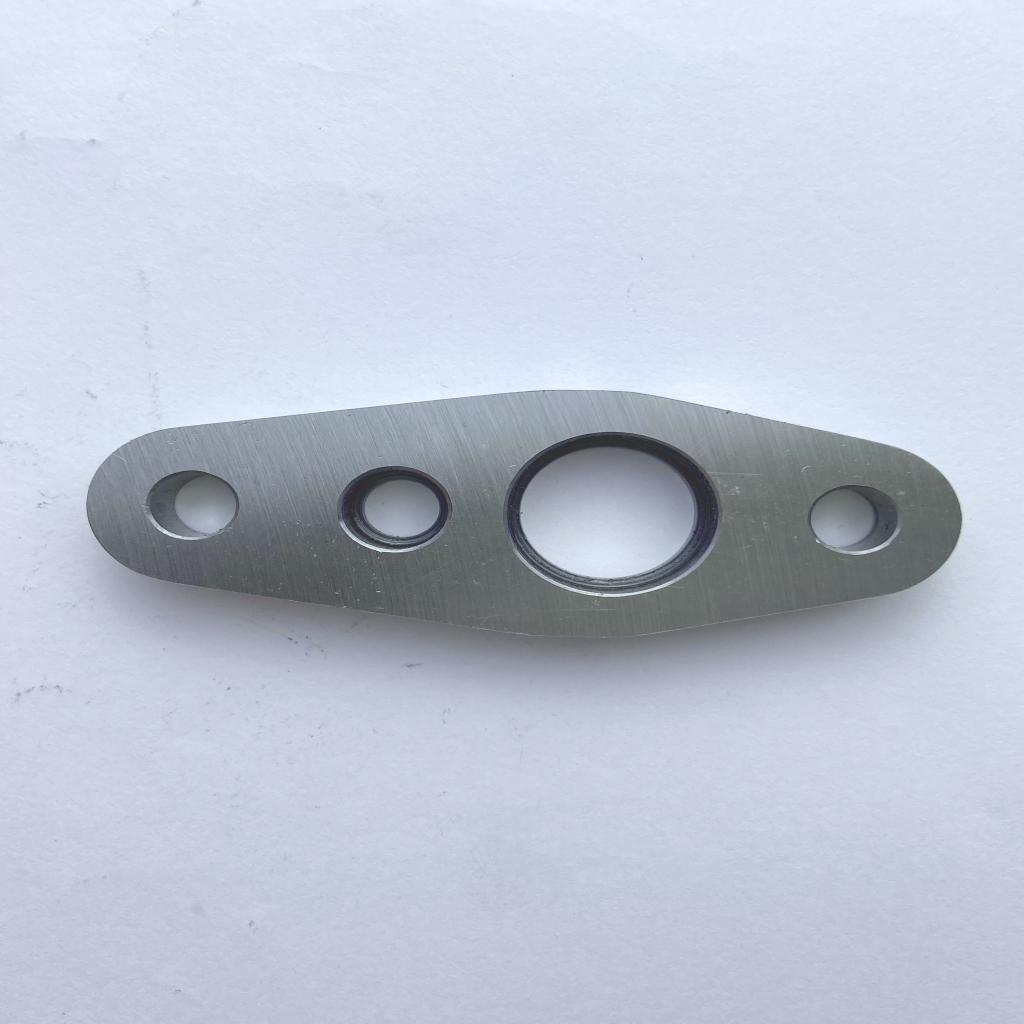chap: (332, 588, 351, 610), (369, 570, 383, 594), (794, 464, 813, 476), (291, 518, 306, 527), (309, 552, 321, 560)
